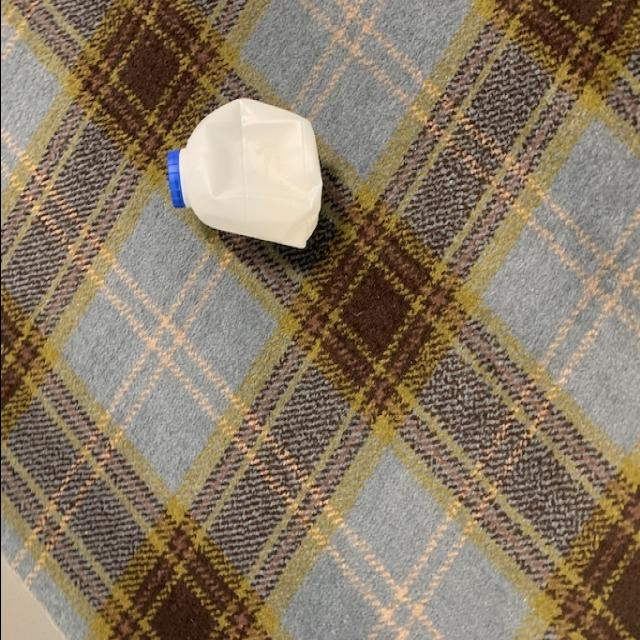HDPEM: (163, 99, 326, 258)
